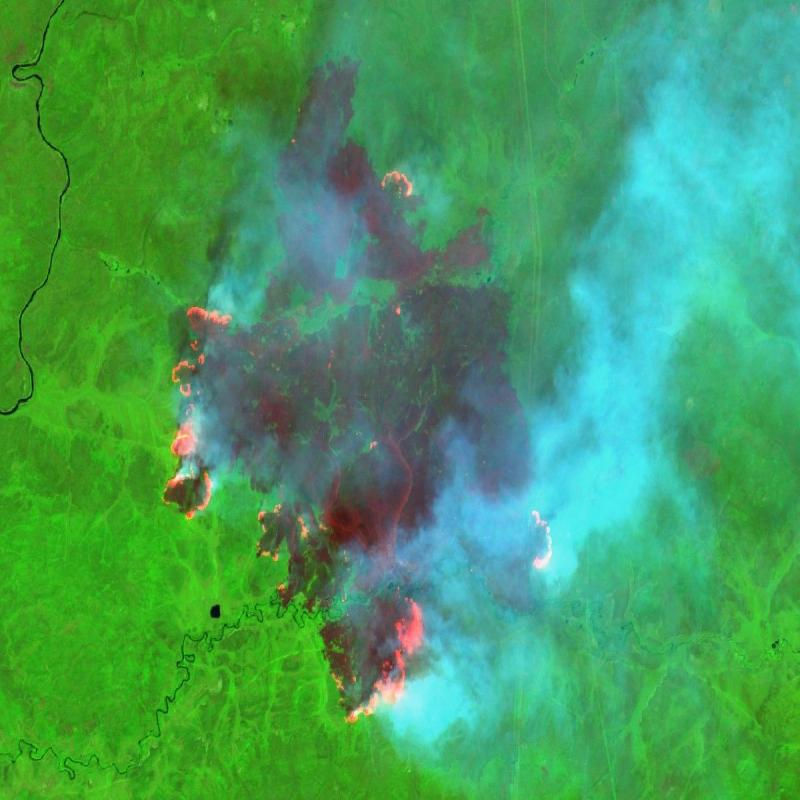fire: (157, 164, 570, 736)
